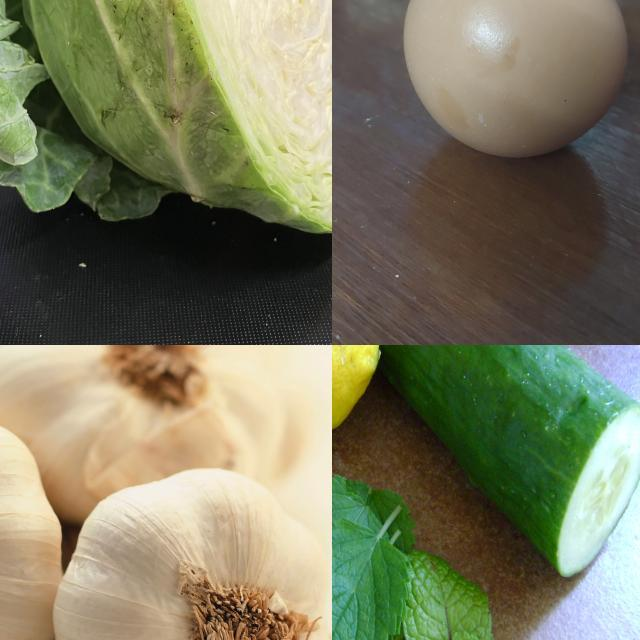cabbage: (1, 1, 333, 243)
cucumber: (361, 346, 640, 590)
egg: (402, 1, 635, 160)
garlic: (1, 346, 290, 519), (49, 469, 333, 640)
